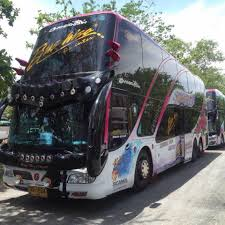bus: (6, 12, 210, 200)
